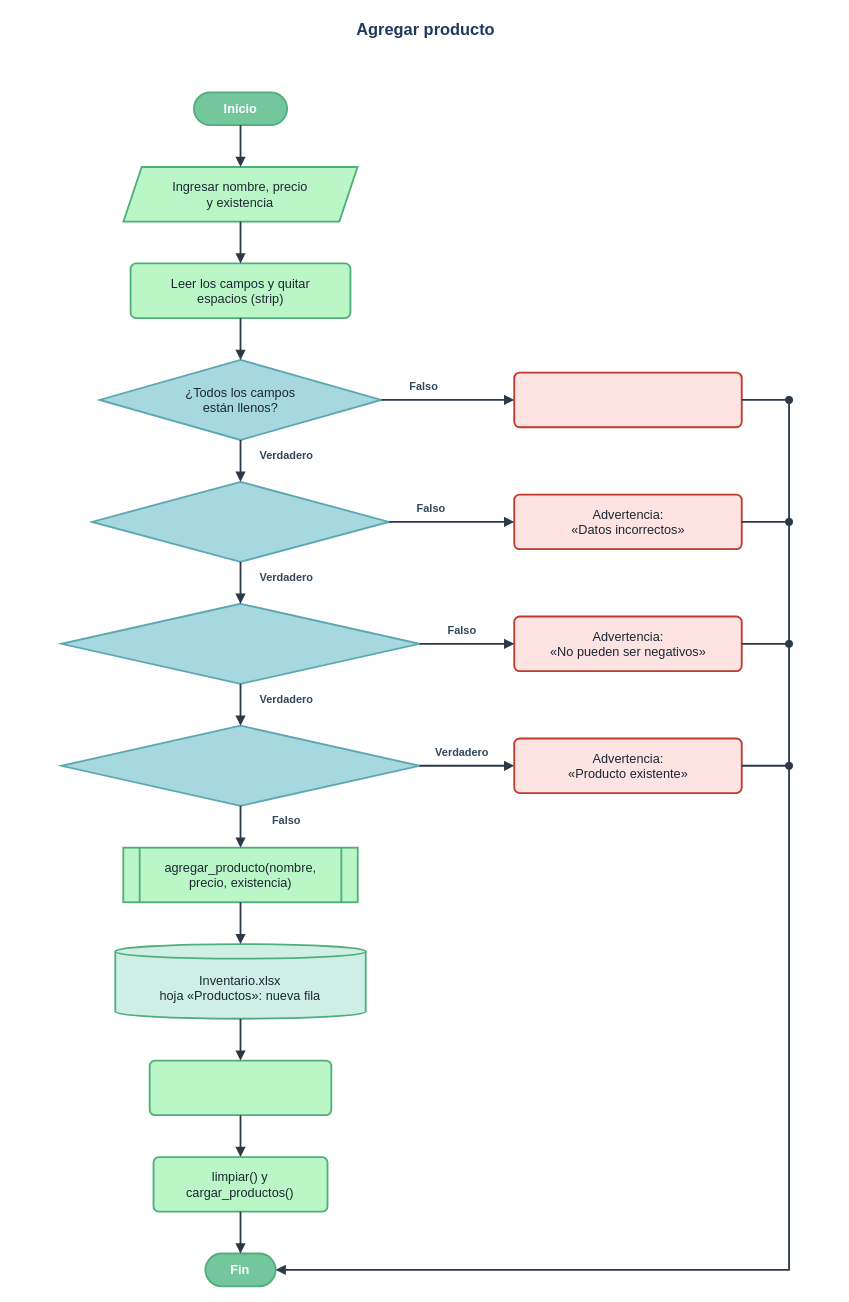
This 849x1302 diagram has some shape labels left out. Here are the shapes that lost their labels. From the top down, the box of each, then its label:
(513, 371, 742, 428): Advertencia: «Datos incompletos»
(91, 480, 389, 562): ¿Precio numérico y existencia entera?
(60, 602, 420, 684): ¿Precio y existencia mayores o iguales a 0?
(60, 724, 420, 806): ¿Ya existe un producto con ese nombre?
(148, 1059, 332, 1116): Mostrar mensaje «Producto agregado»
